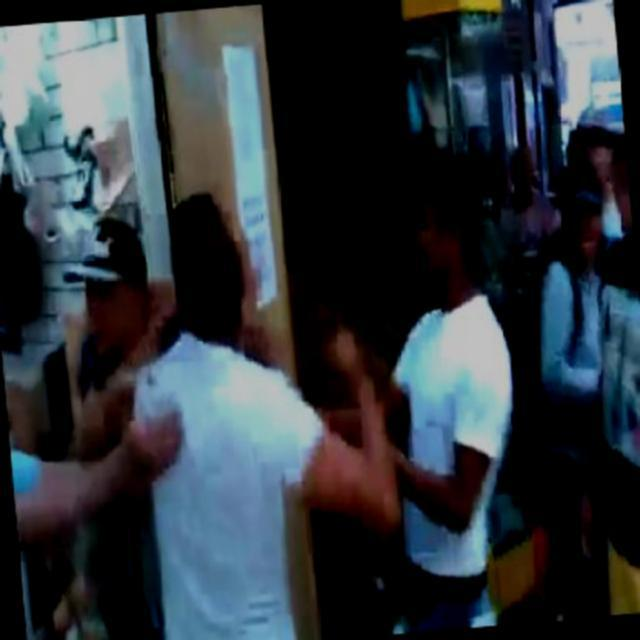fight: (37, 174, 416, 638)
